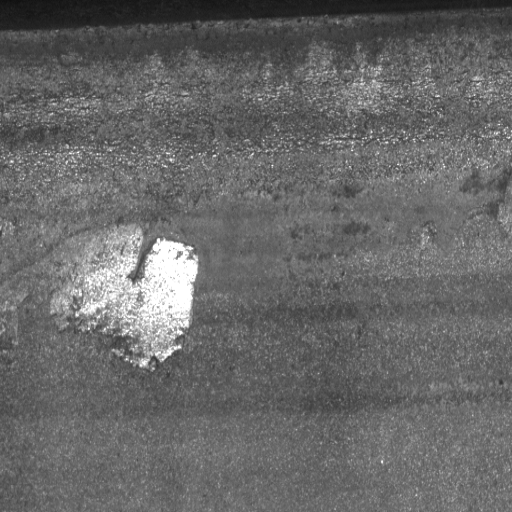qiaopi: (61, 220, 205, 375)
